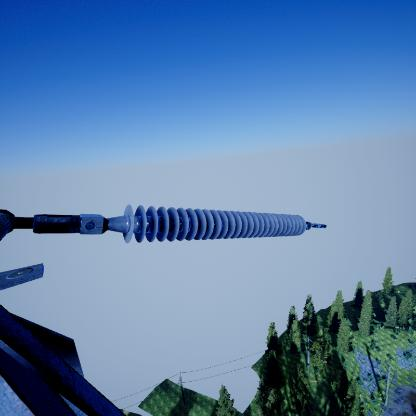insulator: (113, 203, 308, 248)
